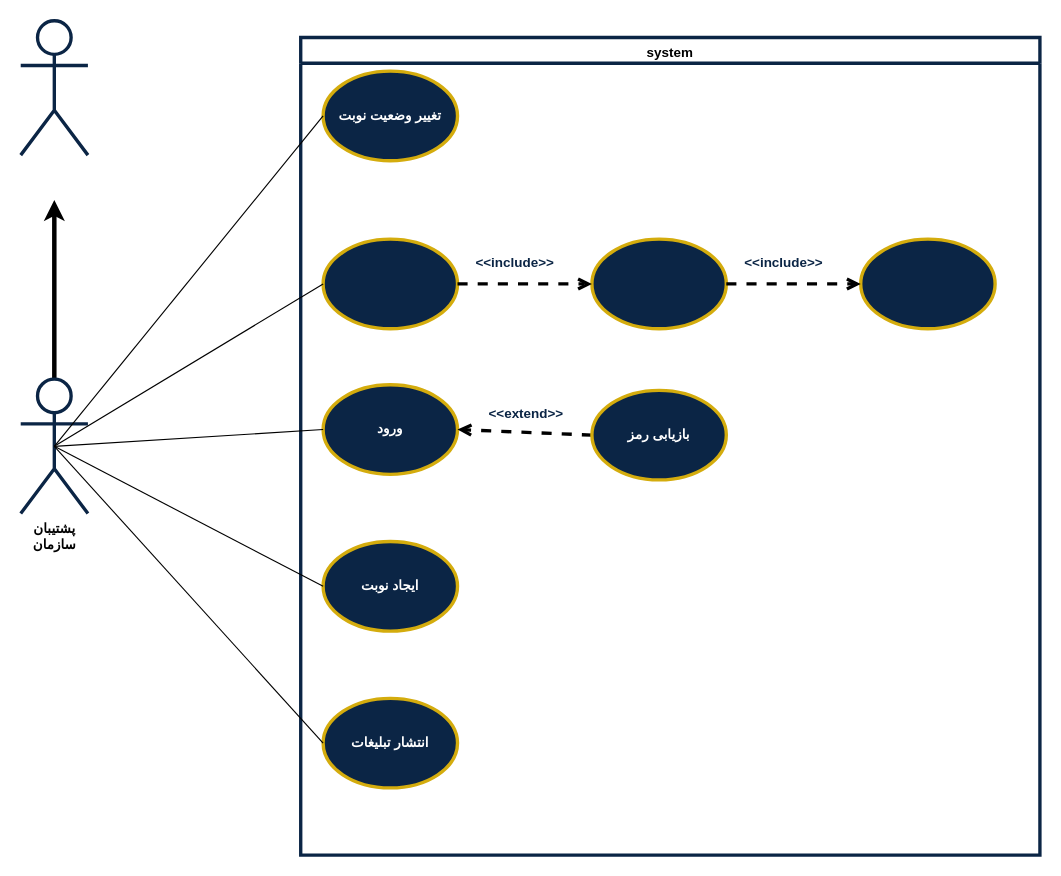
Image size: 1061x876. Some labels were removed from this diagram. Each missing label, with the centre of its shape:
به روزرسانی اطلاعات پروفایل کسب و کار: (x=390, y=283)
تماس با مشتری برای هماهنگی: (x=658, y=283)
دسترسی به اطلاعات تماس نوبت ها: (x=927, y=283)
کارمند حضوری: (x=53, y=87)
